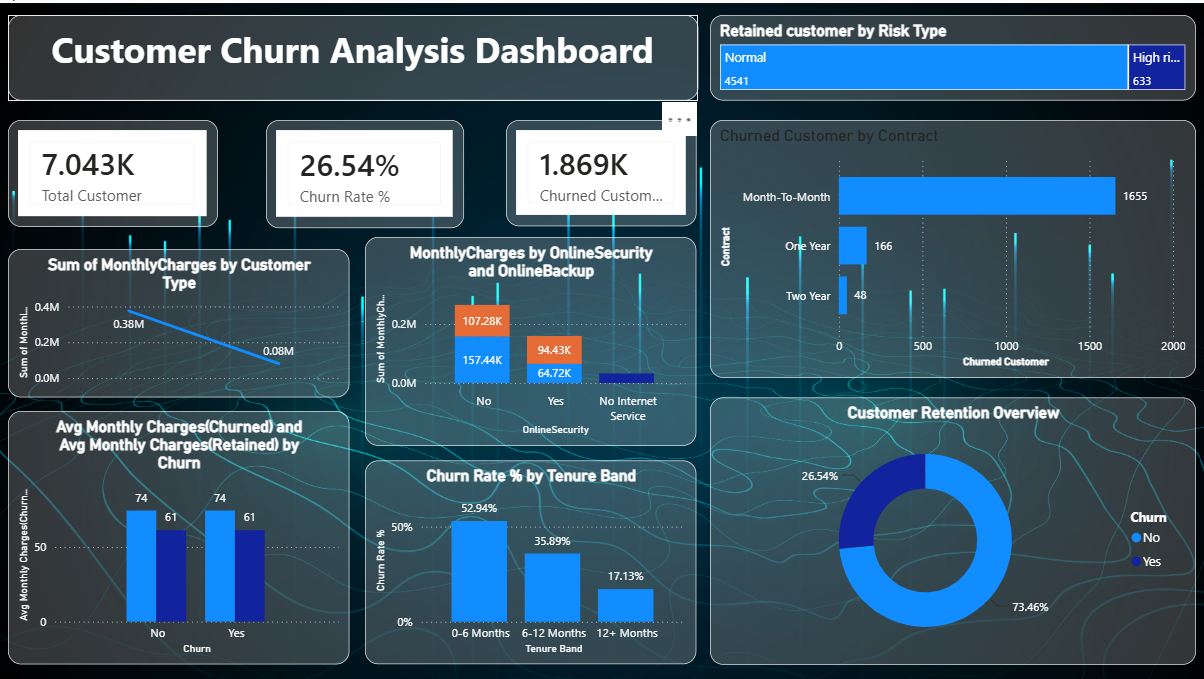

What the dashboard file says about the page in this screenshot:
{"tool":"powerbi","page":{"name":"Page 1","canvas":[1280,720],"ordinal":0},"visuals":[{"type":"textbox","box":[9.5,12.7,731.7,90.7],"z":0},{"type":"treemap","fields":{"Values":["Calculated Measure.Retained customer"],"Group":["telco_churn_unclean.Risk Type"]},"box":[753.9,12.7,515.4,90.7],"z":1000},{"type":"cardVisual","fields":{"Data":["Calculated Measure.Total Customer"]},"box":[9.8,124.5,222.8,113],"z":2000},{"type":"cardVisual","fields":{"Data":["Calculated Measure.Churned Customer"]},"box":[537.6,124.1,202,112.9],"z":3000},{"type":"donutChart","title":"Customer Retention Overview ","fields":{"Category":["telco_churn_unclean.Churn"],"Y":["Calculated Measure.Total Customer"]},"box":[753.9,418.3,515.4,283.1],"z":4000},{"type":"barChart","fields":{"Category":["telco_churn_unclean.Contract"],"Y":["Calculated Measure.Churned Customer"]},"box":[753.9,124.1,515.4,273.6],"z":5000},{"type":"columnChart","title":"MonthlyCharges by OnlineSecurity and OnlineBackup","fields":{"Category":["telco_churn_unclean.OnlineSecurity"],"Y":["Sum(telco_churn_unclean.MonthlyCharges)"],"Series":["telco_churn_unclean.OnlineBackup"]},"box":[388.1,248.1,351.5,221.1],"z":6000},{"type":"columnChart","fields":{"Y":["Calculated Measure.Churn Rate %"],"Category":["telco_churn_unclean.Tenure Band"]},"box":[388.1,485.1,351.5,216.3],"z":7000},{"type":"lineChart","fields":{"Category":["telco_churn_unclean.Customer Type"],"Y":["Sum(telco_churn_unclean.MonthlyCharges)"]},"box":[9.8,260.5,362.1,157.3],"z":8000},{"type":"clusteredColumnChart","fields":{"Y":["Calculated Measure.Avg Monthly Charges(Churned)","Calculated Measure.Avg Monthly Charges(Retained)"],"Category":["telco_churn_unclean.Churn"]},"box":[9.8,432.5,362.1,268.7],"z":9000},{"type":"cardVisual","fields":{"Data":["Calculated Measure.Churn Rate %"]},"box":[283.4,124.5,209.7,114.7],"z":10000}]}

Visuals, with their boxes in screenshot pixels (x1, y1, x2, y2), scaled from the page's 1280x720 canvas onto the 1204x679 screenshot:
textbox: locate(9, 12, 697, 98)
treemap - Calculated Measure.Retained customer x telco_churn_unclean.Risk Type: locate(709, 12, 1194, 98)
cardVisual - Calculated Measure.Total Customer: locate(9, 117, 219, 224)
cardVisual - Calculated Measure.Churned Customer: locate(506, 117, 696, 224)
"Customer Retention Overview " donutChart: locate(709, 394, 1194, 661)
barChart - telco_churn_unclean.Contract x Calculated Measure.Churned Customer: locate(709, 117, 1194, 375)
"MonthlyCharges by OnlineSecurity and OnlineBackup" columnChart: locate(365, 234, 696, 442)
columnChart - Calculated Measure.Churn Rate % x telco_churn_unclean.Tenure Band: locate(365, 457, 696, 661)
lineChart - telco_churn_unclean.Customer Type x Sum(telco_churn_unclean.MonthlyCharges): locate(9, 246, 350, 394)
clusteredColumnChart - Calculated Measure.Avg Monthly Charges(Churned) x Calculated Measure.Avg Monthly Charges(Retained): locate(9, 408, 350, 661)
cardVisual - Calculated Measure.Churn Rate %: locate(267, 117, 464, 226)
